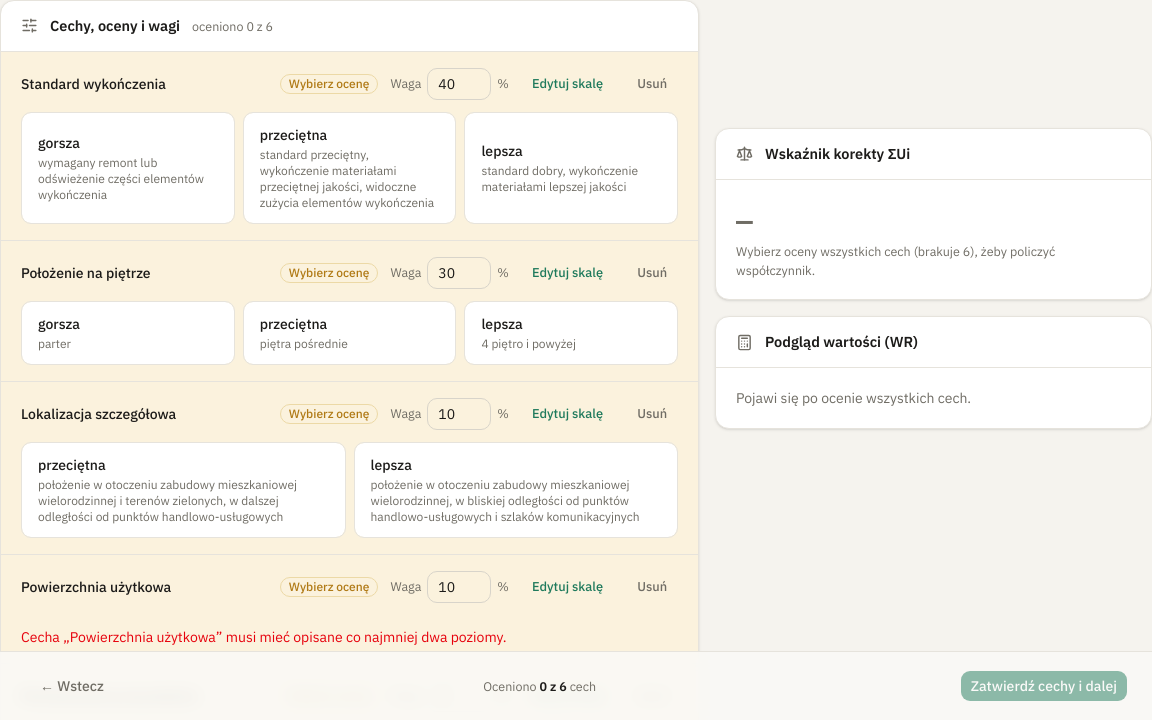
Test: StepFeatures — bag add/remove (Slice 7, migrated Task 10) › disables the remove button once only one feature row remains
Click the button with aria-label "Usuń cechę ".
click(652, 84)  # box [626,70,678,98]
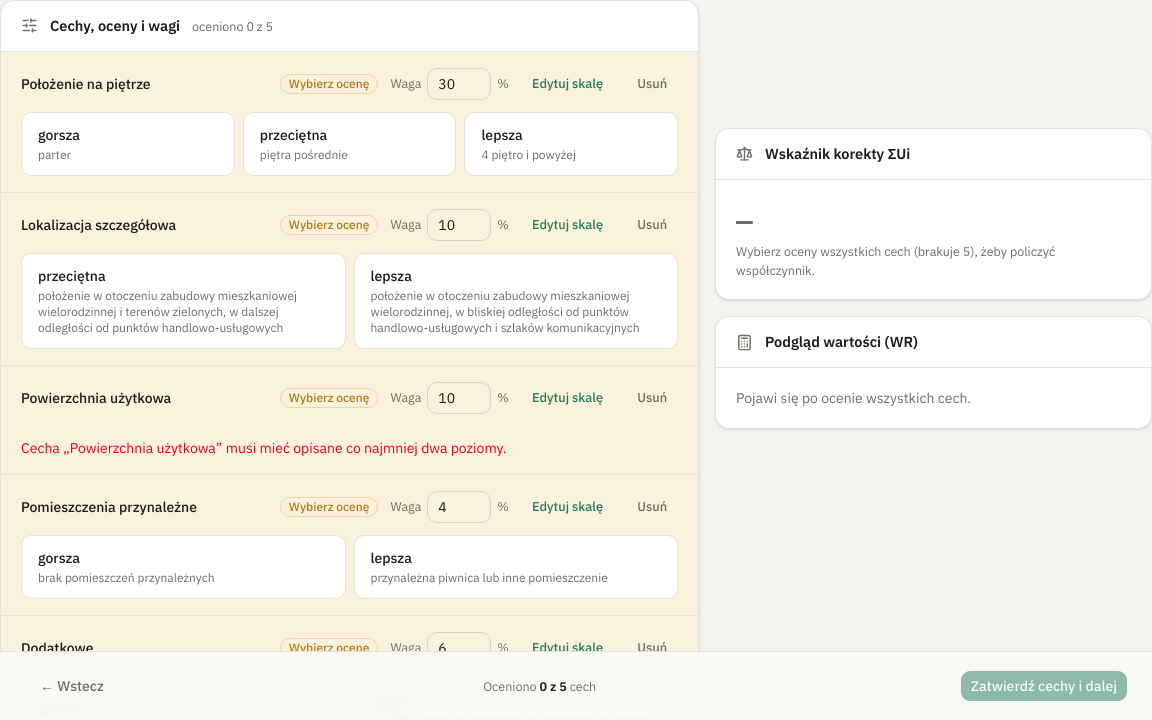
Click the button with aria-label "Usuń cechę ".
click(652, 84)  # box [626,70,678,98]
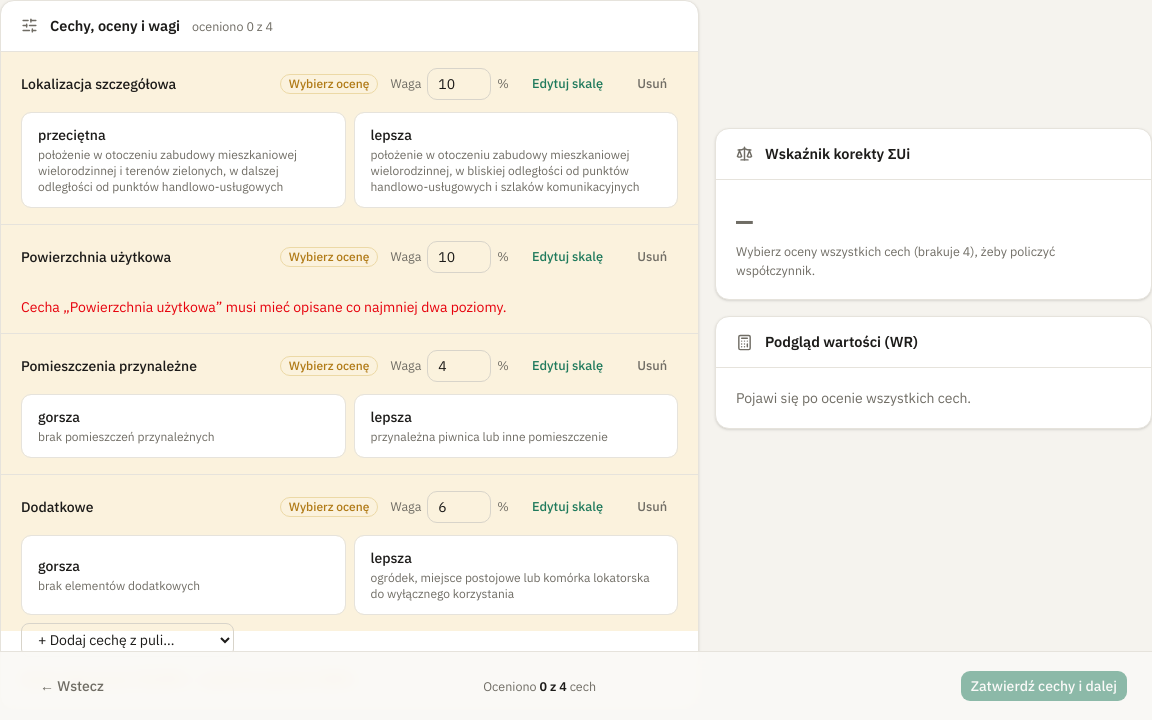
Click the button with aria-label "Usuń cechę ".
click(652, 84)  # box [626,70,678,98]
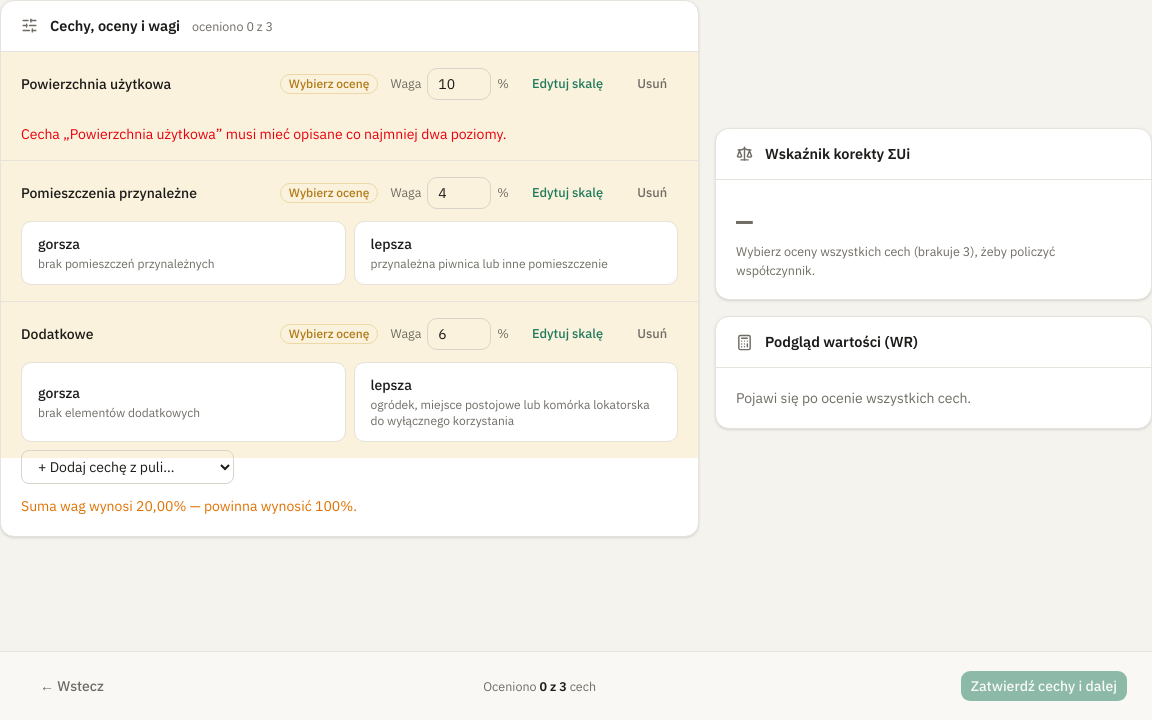
Click the button with aria-label "Usuń cechę ".
click(652, 84)  # box [626,70,678,98]
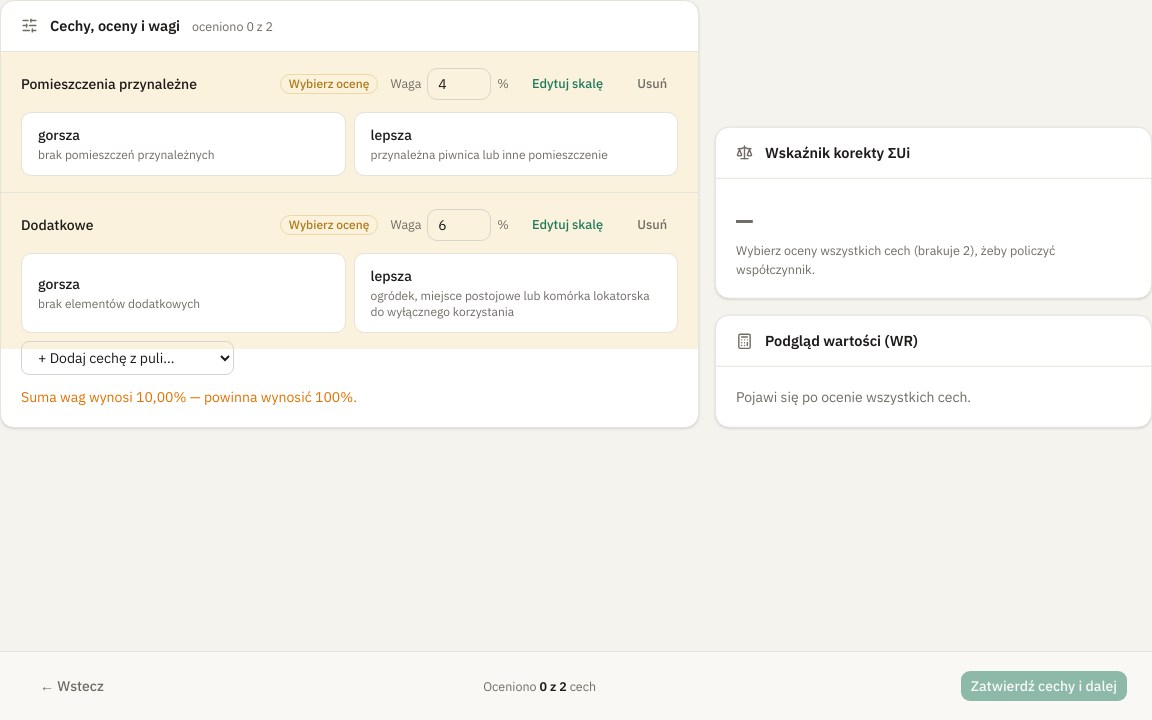
Click the button with aria-label "Usuń cechę ".
click(652, 84)  # box [626,70,678,98]
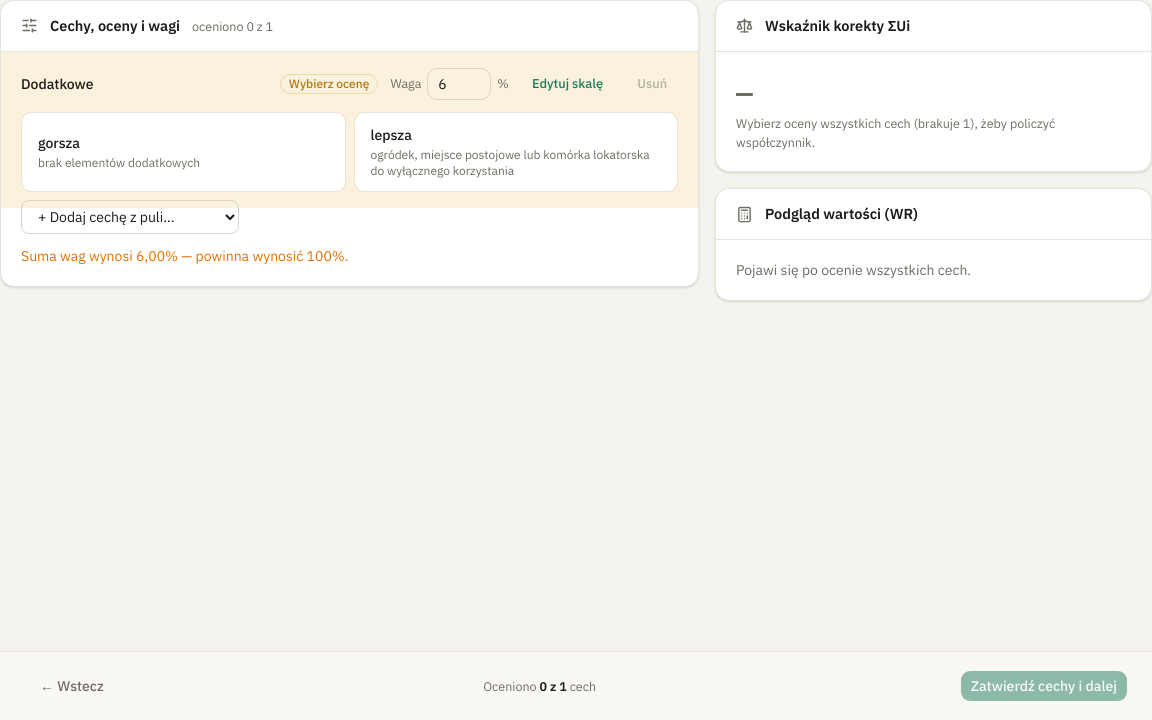
Expected: the number of buttons named "Usuń cechę " is 1, [626,70,678,98]
Expected: the button with aria-label "Usuń cechę " is disabled, [626,70,678,98]
